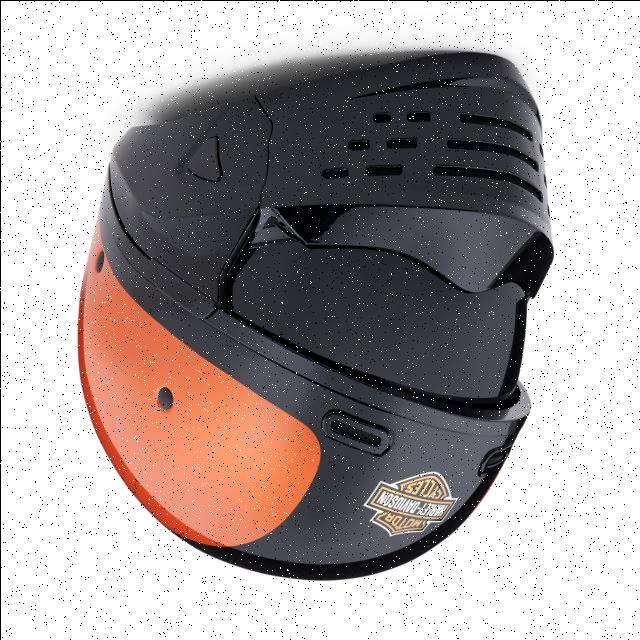Helmet: (59, 45, 562, 605)
